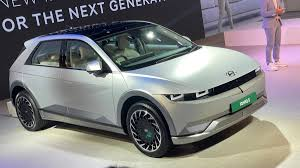Honda Ioniq: (8, 16, 271, 159)
